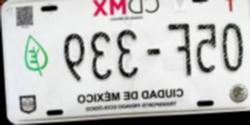License_Plate: (6, 0, 250, 121)
